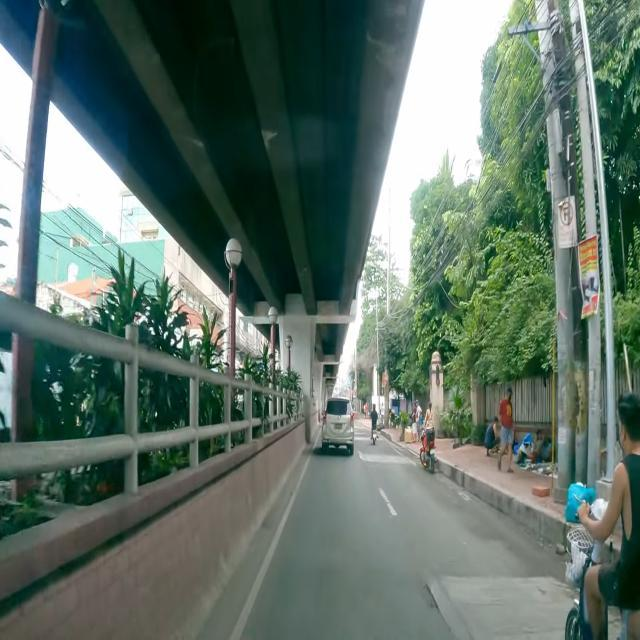car: (321, 398, 354, 454)
motorcycle: (562, 393, 640, 640), (419, 427, 436, 472), (370, 404, 378, 444)
